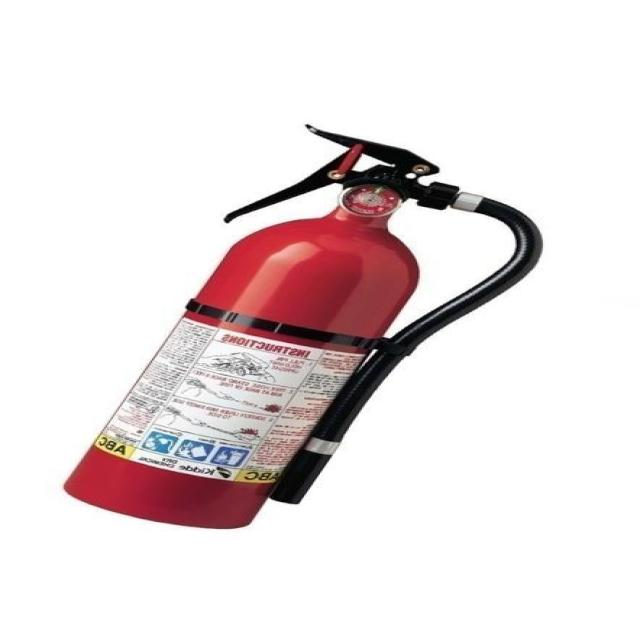fire_extinguisher: (52, 120, 550, 532)
